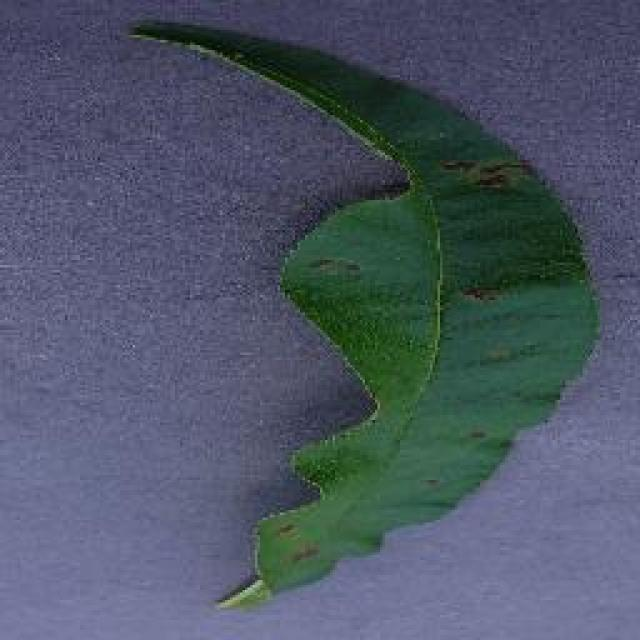Peach_Bacterial_Spot: (415, 105, 580, 398)
